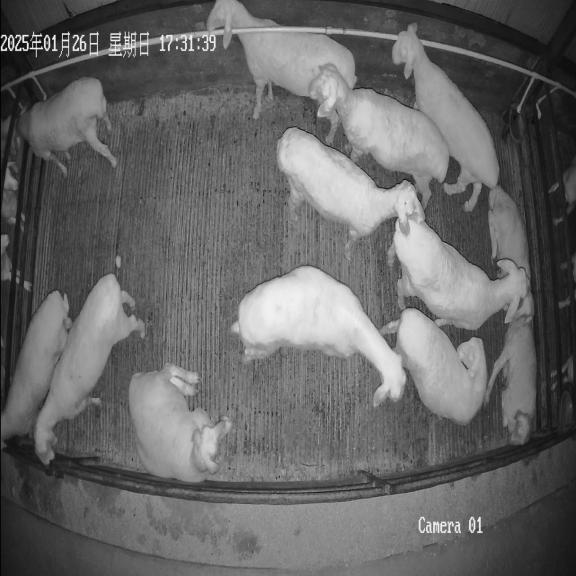drinking: (12, 77, 117, 175)
lying: (129, 364, 232, 482), (485, 318, 536, 445), (488, 185, 534, 323)
stand: (231, 266, 406, 406), (34, 273, 145, 464), (392, 23, 499, 211), (309, 64, 449, 207), (277, 127, 424, 259), (206, 0, 356, 119), (387, 220, 530, 330), (380, 308, 487, 425), (2, 290, 72, 441)
